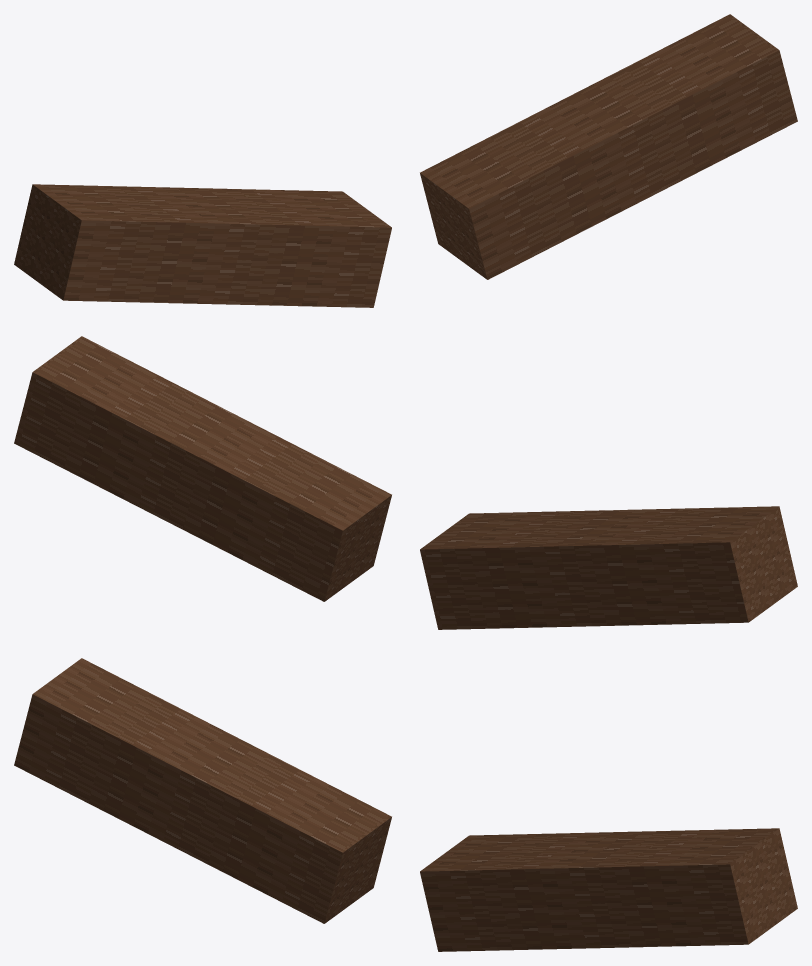
File: bigote.glb
3 views of the same model, one above another, from view 1: azimuth 30°, elevation 25°; view 2: azimuth 150°, elevation 25°; view 3: azimuth 330°, elevation 25° (orthographic).
Parts seen in each view (by area): view 1: _MeshInstance3D_95, _MeshInstance3D_94; view 2: _MeshInstance3D_95, _MeshInstance3D_94; view 3: _MeshInstance3D_94, _MeshInstance3D_95.
Part boxes in pixels (<box>): _MeshInstance3D_95: <box>420,14,797,279</box>; _MeshInstance3D_94: <box>14,184,391,307</box>; _MeshInstance3D_95: <box>14,336,391,601</box>; _MeshInstance3D_94: <box>420,506,797,629</box>; _MeshInstance3D_94: <box>14,658,391,923</box>; _MeshInstance3D_95: <box>420,828,797,951</box>.
Size of the model in its own units: 0.1376 by 0.0284 by 0.016.
Materials: 1 (1 with a texture image).
